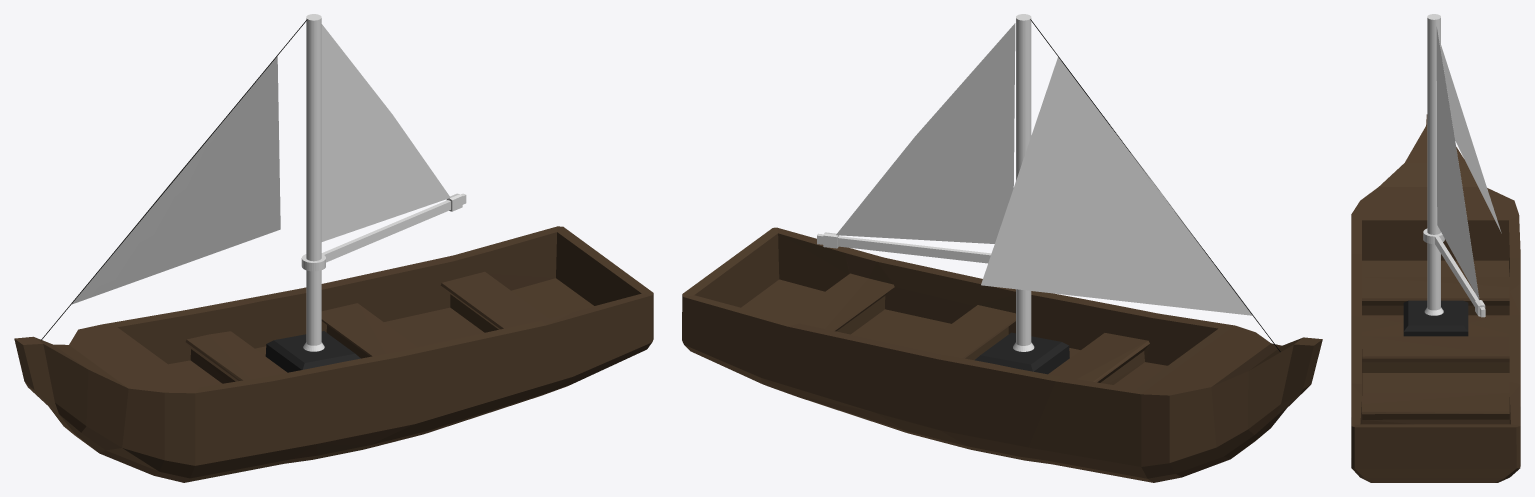
The model's file is wip_boat_optimized_with_2sail.fbx.
3 renders of one model, left to right at view 1: azimuth 30°, elevation 25°; view 2: azimuth 150°, elevation 25°; view 3: azimuth 270°, elevation 25°, orthographic. The views are drawn at different scales.
Visible parts, largest first — view 1: Boat, Plane.001, Plane, Mast; view 2: Boat, Plane.001, Plane, Mast; view 3: Boat, Plane, Mast, Plane.001.
Part boxes in pixels (x1,y1,x2,y2): Boat: [14, 226, 653, 482]; Plane.001: [71, 56, 280, 304]; Plane: [321, 24, 450, 241]; Mast: [301, 14, 466, 351]; Boat: [682, 227, 1322, 482]; Plane.001: [981, 57, 1252, 315]; Plane: [836, 23, 1015, 243]; Mast: [817, 14, 1034, 351]; Boat: [1351, 114, 1520, 482]; Plane: [1436, 26, 1479, 300]; Mast: [1423, 14, 1485, 317]; Plane.001: [1441, 45, 1501, 233].
Bounding box in the file's own units: 1741 × 1156 × 485.
